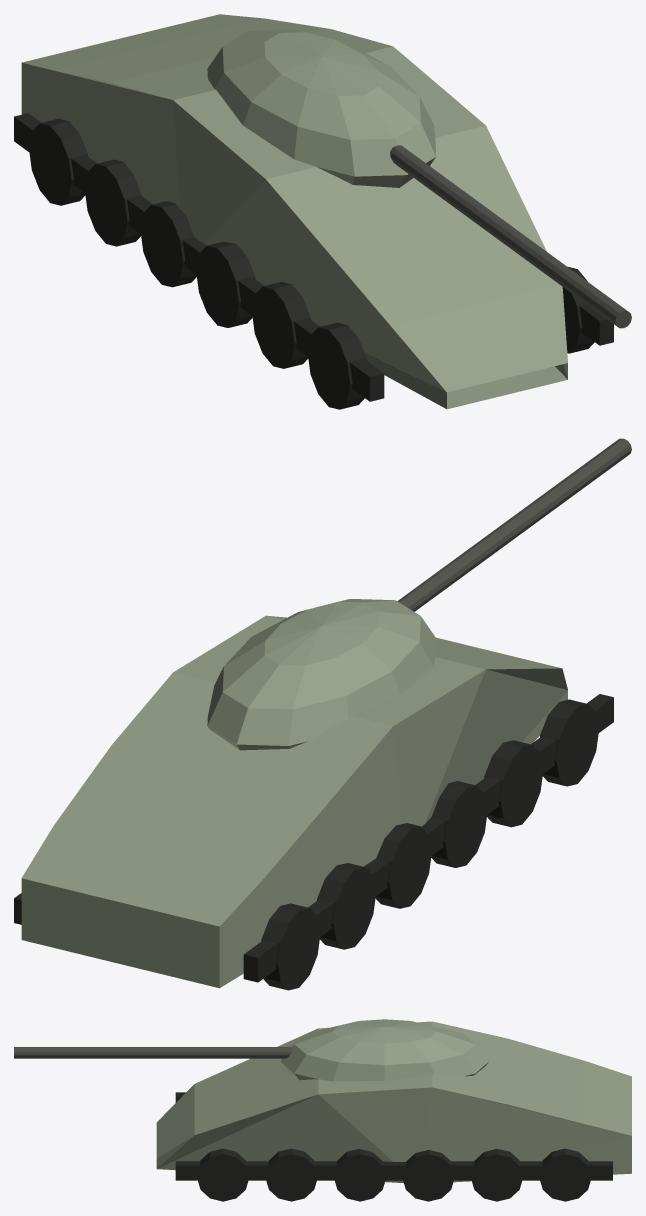
File: supply_us_cw.glb
The picture shows the model from 3 angles, top to bottom: view 1: azimuth 30°, elevation 25°; view 2: azimuth 150°, elevation 25°; view 3: azimuth 270°, elevation 25°; orthographic projection. The views are drawn at different scales.
Visible parts, largest first — view 1: Hull, Turret, Gun, Track_L, Wheel_L_06, Wheel_L_01, Wheel_L_02, Wheel_L_03, Wheel_L_05, Wheel_L_04, Wheel_R_01, Track_R; view 2: Hull, Turret, Gun, Track_L, Wheel_L_06, Wheel_L_01, Wheel_L_02, Wheel_L_05, Wheel_L_03, Wheel_L_04; view 3: Hull, Turret, Gun, Track_R, Wheel_R_06, Wheel_R_02, Wheel_R_01, Wheel_R_05, Wheel_R_03, Wheel_R_04.
Part boxes in pixels (box(x1,y1,x2,y2)): Hull: box(21, 14, 567, 409); Turret: box(207, 29, 436, 187); Gun: box(390, 145, 631, 328); Track_L: box(14, 113, 384, 401); Wheel_L_06: box(29, 118, 88, 205); Wheel_L_01: box(307, 322, 366, 409); Wheel_L_02: box(252, 282, 310, 368); Wheel_L_03: box(196, 241, 255, 327); Wheel_L_05: box(84, 159, 141, 246); Wheel_L_04: box(140, 201, 196, 287); Wheel_R_01: box(562, 266, 594, 353); Track_R: box(579, 304, 613, 345); Hull: box(21, 615, 567, 988); Turret: box(207, 599, 436, 750); Gun: box(397, 438, 631, 611); Track_L: box(243, 694, 613, 982); Wheel_L_06: box(261, 903, 320, 990); Wheel_L_01: box(540, 699, 598, 786); Wheel_L_02: box(484, 740, 543, 827); Wheel_L_05: box(317, 863, 376, 949); Wheel_L_03: box(431, 781, 487, 867); Wheel_L_04: box(375, 823, 431, 908); Hull: box(156, 1021, 631, 1183); Turret: box(280, 1019, 489, 1081); Gun: box(14, 1047, 292, 1058); Track_R: box(175, 1161, 612, 1180); Wheel_R_06: box(539, 1148, 591, 1201); Wheel_R_02: box(265, 1148, 317, 1201); Wheel_R_01: box(197, 1148, 249, 1201); Wheel_R_05: box(470, 1149, 522, 1201); Wheel_R_03: box(334, 1149, 386, 1201); Wheel_R_04: box(402, 1150, 454, 1201).
Bounding box in the file's own units: 2.6 × 2.23 × 9.1.
